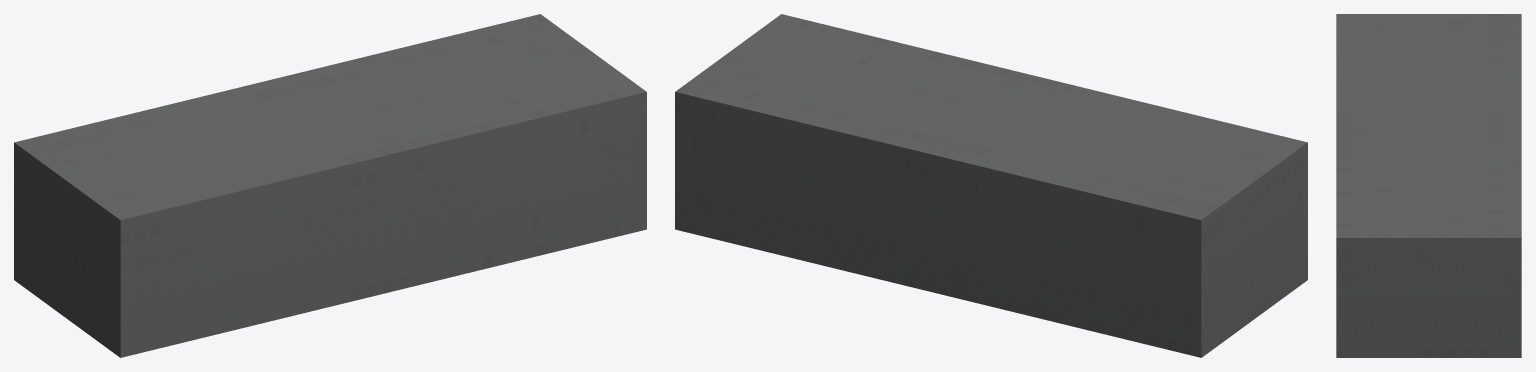
The model's file is prop_pencil_case-4.glb.
The picture shows the model from 3 angles, left to right: view 1: azimuth 30°, elevation 25°; view 2: azimuth 150°, elevation 25°; view 3: azimuth 270°, elevation 25°; orthographic projection. The views are drawn at different scales.
Parts seen in each view (by area): view 1: prop_pencil_case-4; view 2: prop_pencil_case-4; view 3: prop_pencil_case-4.
Part boxes in pixels (x1,y1,x2,y2): prop_pencil_case-4: [14, 14, 646, 357]; prop_pencil_case-4: [675, 14, 1307, 357]; prop_pencil_case-4: [1336, 14, 1521, 357].
Size of the model in its own units: 0.2 by 0.05 by 0.07.
Materials: 1 (1 with a texture image).
